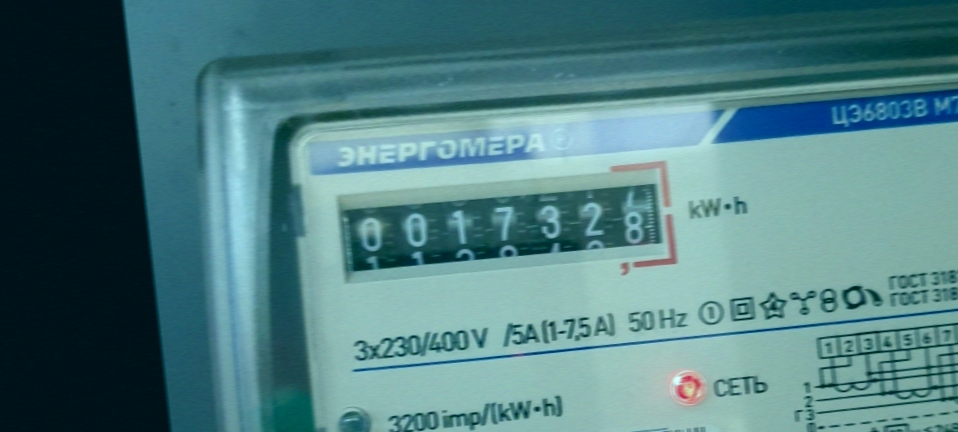0: (356, 212, 386, 254), (403, 208, 430, 249)
1: (448, 205, 470, 247)
2: (579, 198, 606, 237)
3: (538, 201, 564, 239)
7: (492, 202, 518, 243)
8: (622, 207, 644, 244)
screen: (325, 154, 689, 308)
